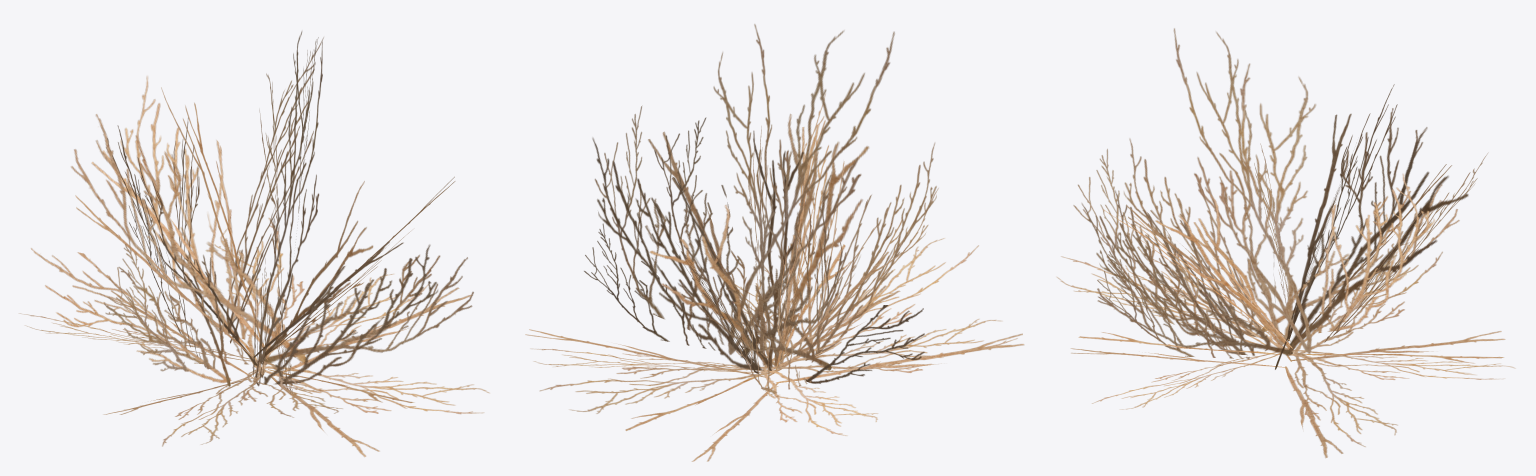
File: grass_dead_a2.glb
3 renders of one model, left to right at view 1: azimuth 30°, elevation 25°; view 2: azimuth 150°, elevation 25°; view 3: azimuth 270°, elevation 25°, orthographic. The views are drawn at different scales.
Visible parts, largest first — view 1: SM_DeadGrass_A2_LOD3; view 2: SM_DeadGrass_A2_LOD3; view 3: SM_DeadGrass_A2_LOD3.
Part boxes in pixels (x1,y1,x2,y2): SM_DeadGrass_A2_LOD3: (19,31,489,456); SM_DeadGrass_A2_LOD3: (525,24,1024,461); SM_DeadGrass_A2_LOD3: (1056,28,1515,457).
Size of the model in its own units: 0.7127 by 0.55 by 0.6866.
1 material, 1 textured.
